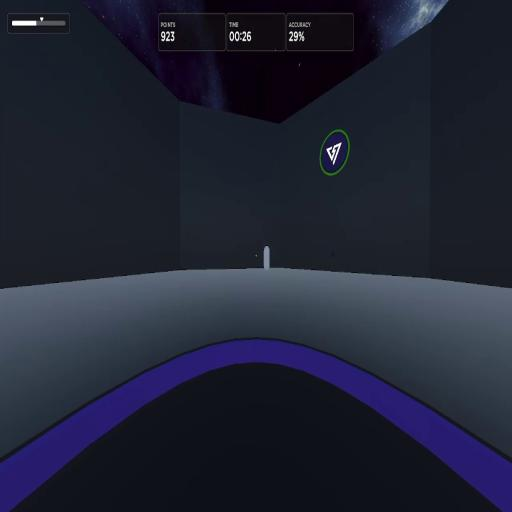Crosshair: (256, 254, 258, 258)
Target: (264, 245, 270, 272)
